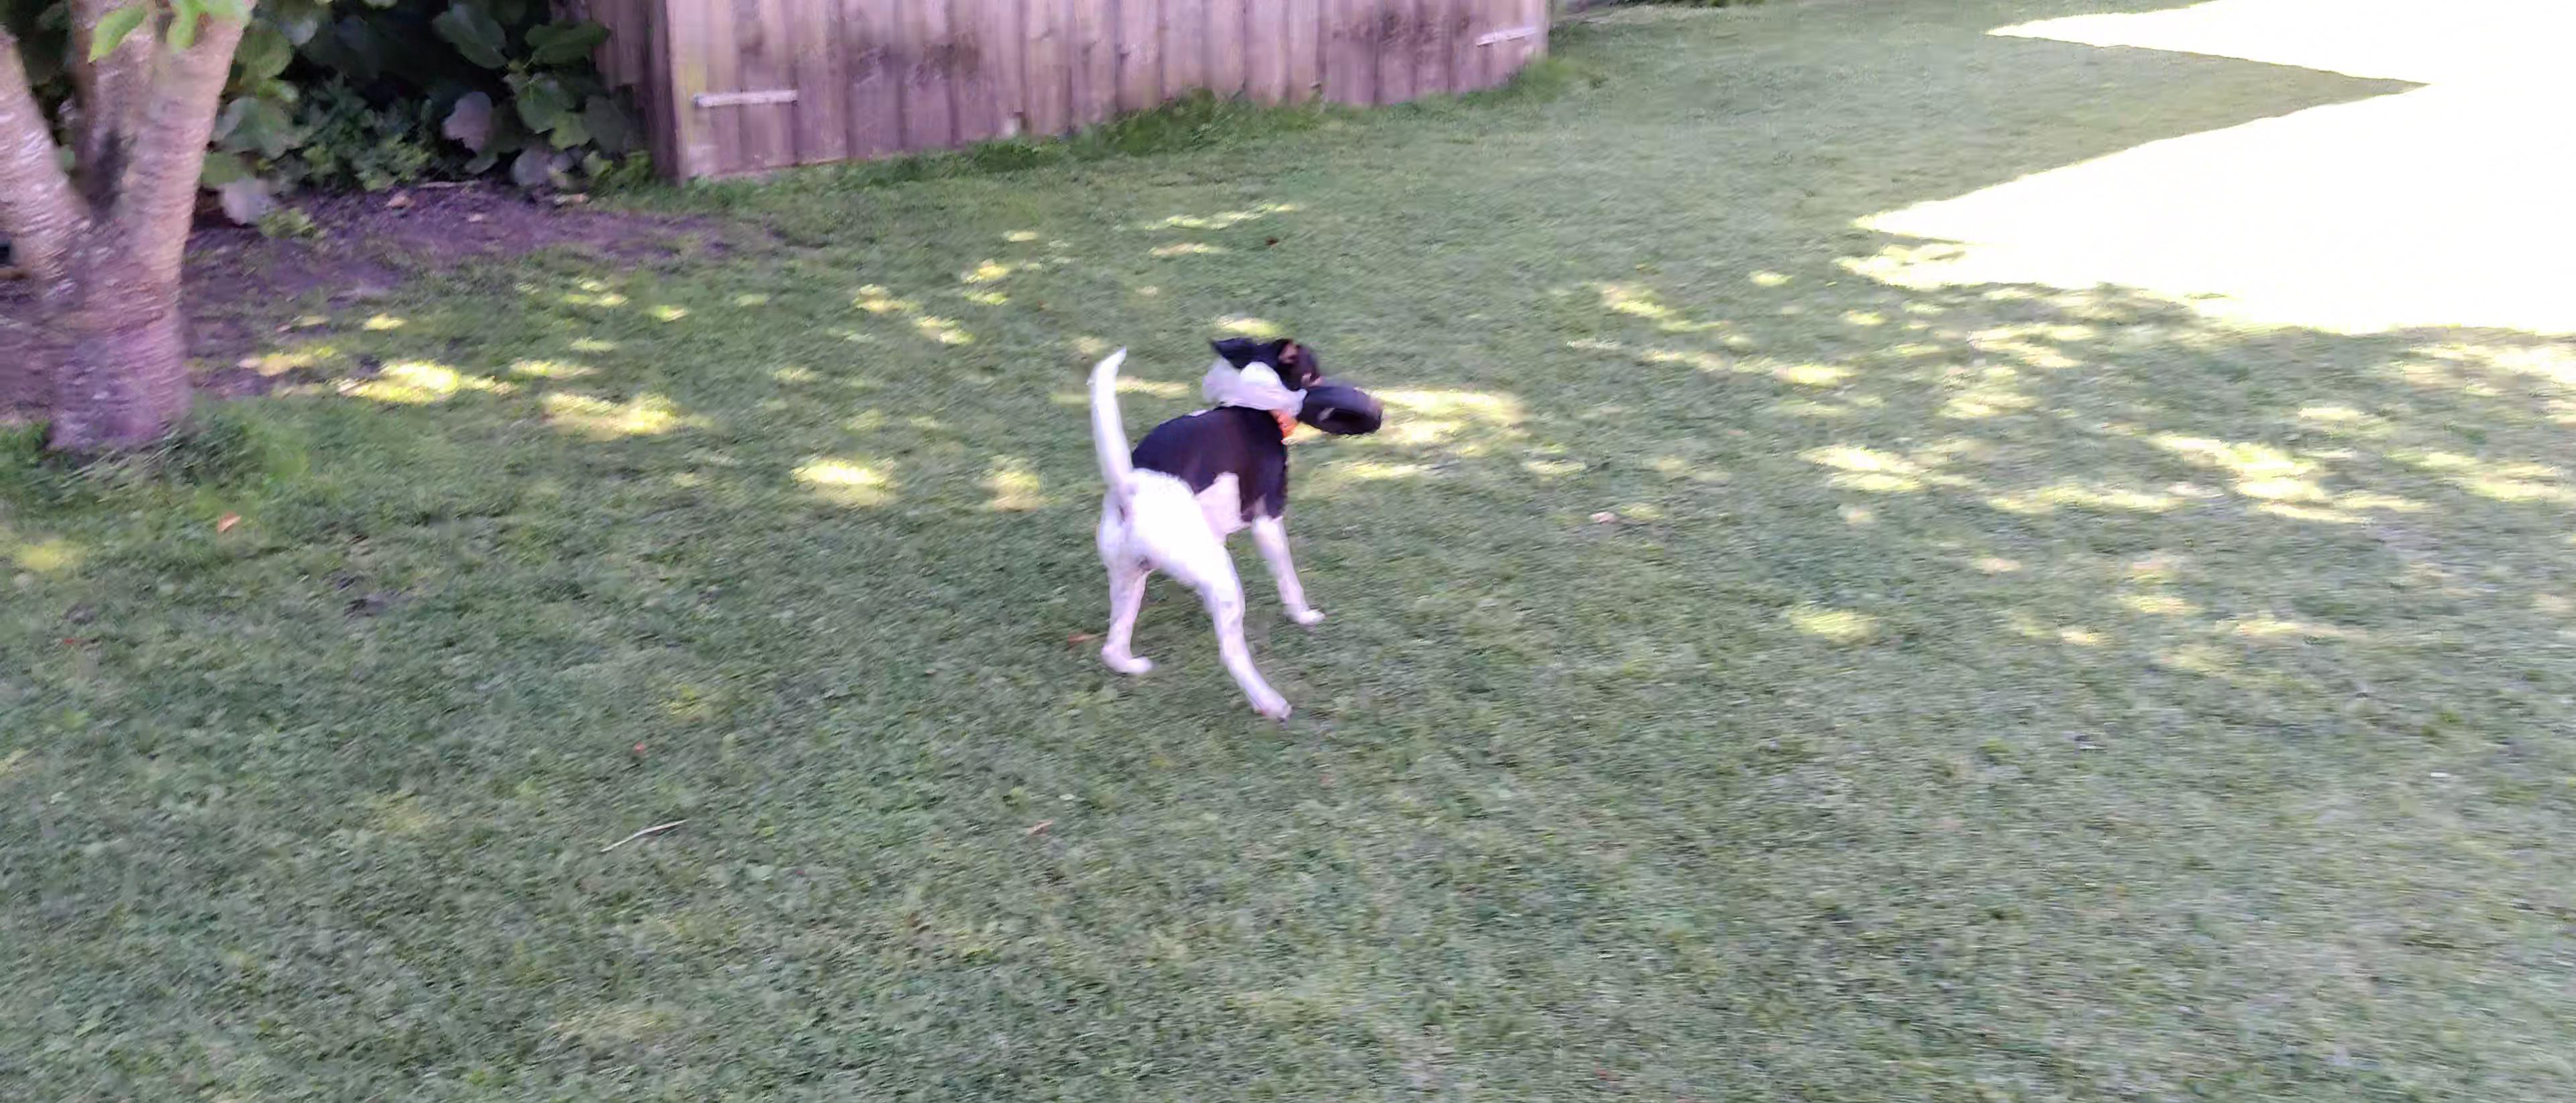Dog: (1081, 329, 1327, 727)
